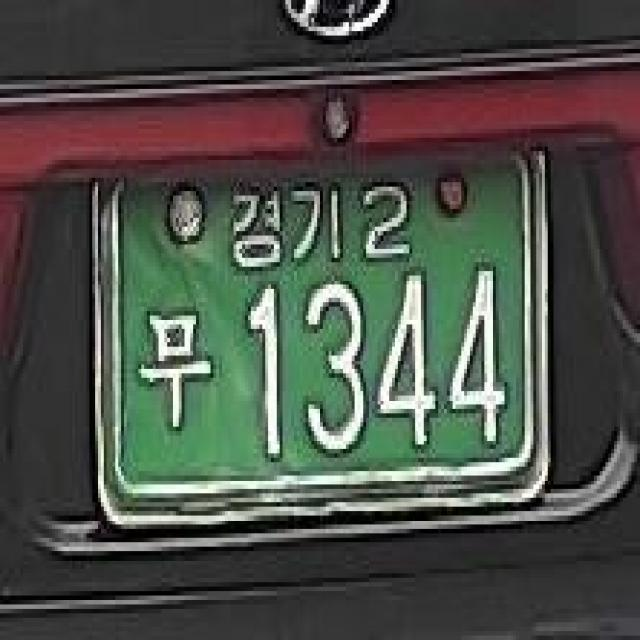illegal_plate: (71, 128, 564, 546)
